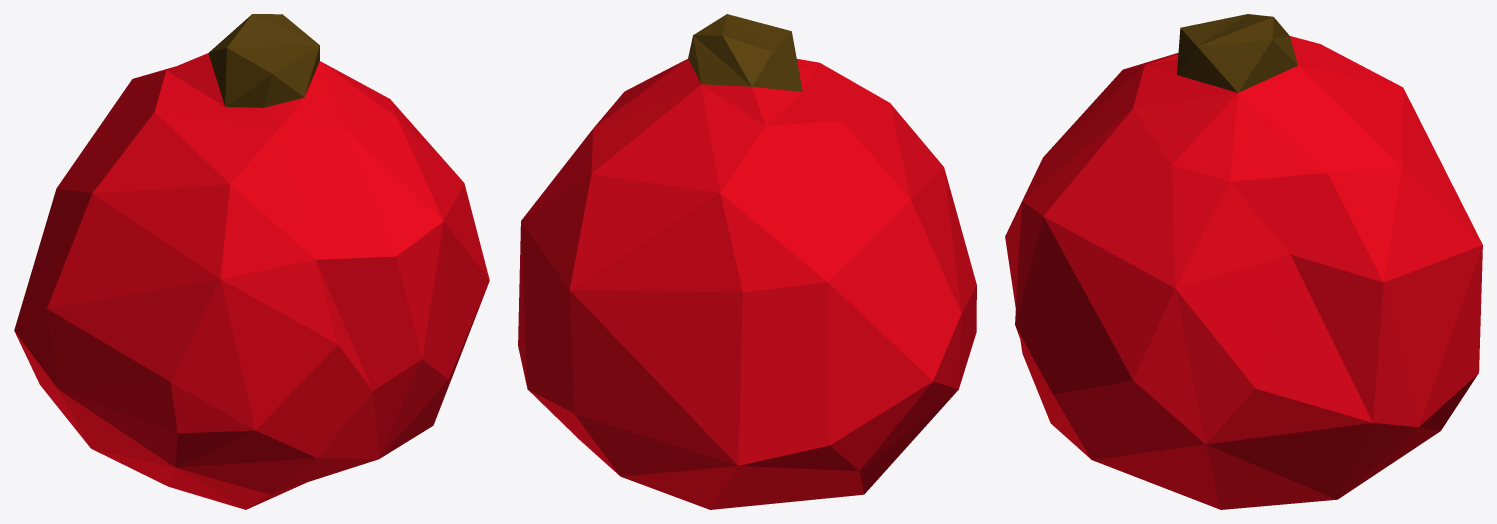
The model's file is Seedpod2.glb.
3 renders of one model, left to right at view 1: azimuth 30°, elevation 25°; view 2: azimuth 150°, elevation 25°; view 3: azimuth 270°, elevation 25°, orthographic. The views are drawn at different scales.
Visible parts, largest first — view 1: Seedpod2; view 2: Seedpod2; view 3: Seedpod2.
Boxes of the visible parts, left/top/right/bottom form: Seedpod2: left=14, top=14, right=489, bottom=509; Seedpod2: left=518, top=14, right=976, bottom=509; Seedpod2: left=1005, top=14, right=1482, bottom=509.
Size of the model in its own units: 1.22 by 1.32 by 1.18.
2 materials, 1 textured.
